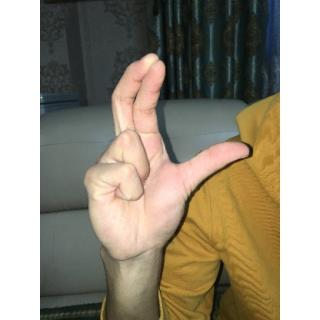DHELL: (78, 46, 255, 283)
